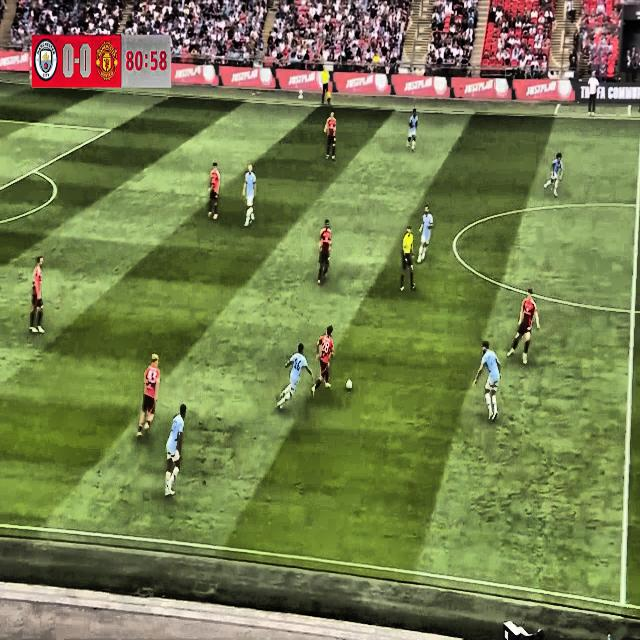ball: (346, 375, 354, 398)
players: (505, 278, 546, 374), (274, 334, 314, 428), (468, 338, 504, 433), (162, 395, 189, 515), (137, 346, 161, 444), (27, 248, 52, 338), (311, 322, 337, 401), (316, 212, 338, 290), (539, 152, 571, 202), (239, 162, 262, 228), (207, 154, 223, 228), (323, 110, 342, 170), (418, 202, 433, 265), (407, 101, 419, 155)
refree: (398, 222, 420, 300), (318, 55, 332, 109)
